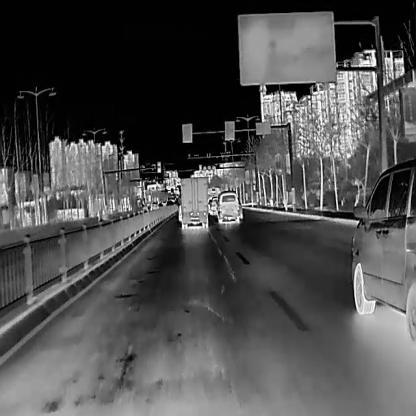car: (350, 160, 415, 342), (178, 176, 207, 229), (215, 190, 239, 224), (210, 197, 217, 215), (165, 199, 174, 209)
